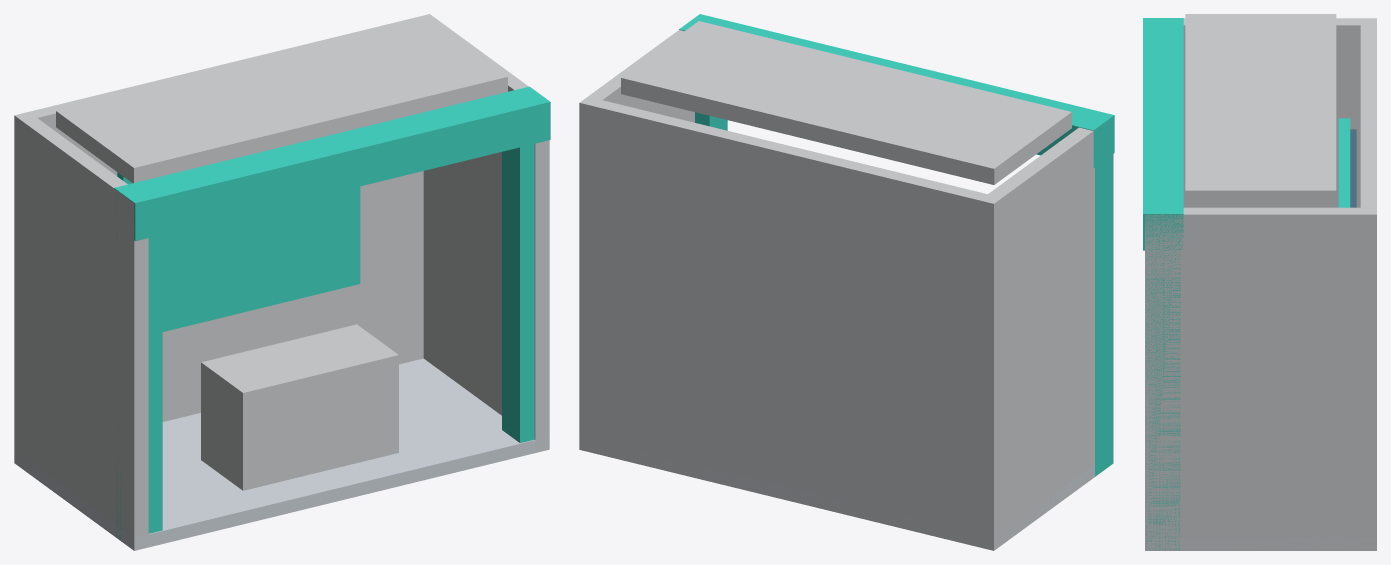
3 views of the same model, side by side, from view 1: azimuth 30°, elevation 25°; view 2: azimuth 150°, elevation 25°; view 3: azimuth 270°, elevation 25° (orthographic). The views are drawn at different scales.
Visible parts, largest first — view 1: Exhibition Booth Concept; view 2: Exhibition Booth Concept; view 3: Exhibition Booth Concept.
Boxes of the visible parts, x1,y1,x2,y2 form: Exhibition Booth Concept: [14, 14, 550, 550]; Exhibition Booth Concept: [579, 14, 1114, 550]; Exhibition Booth Concept: [1143, 14, 1376, 550].
Size of the model in its own units: 4 by 3.34 by 2.01.
